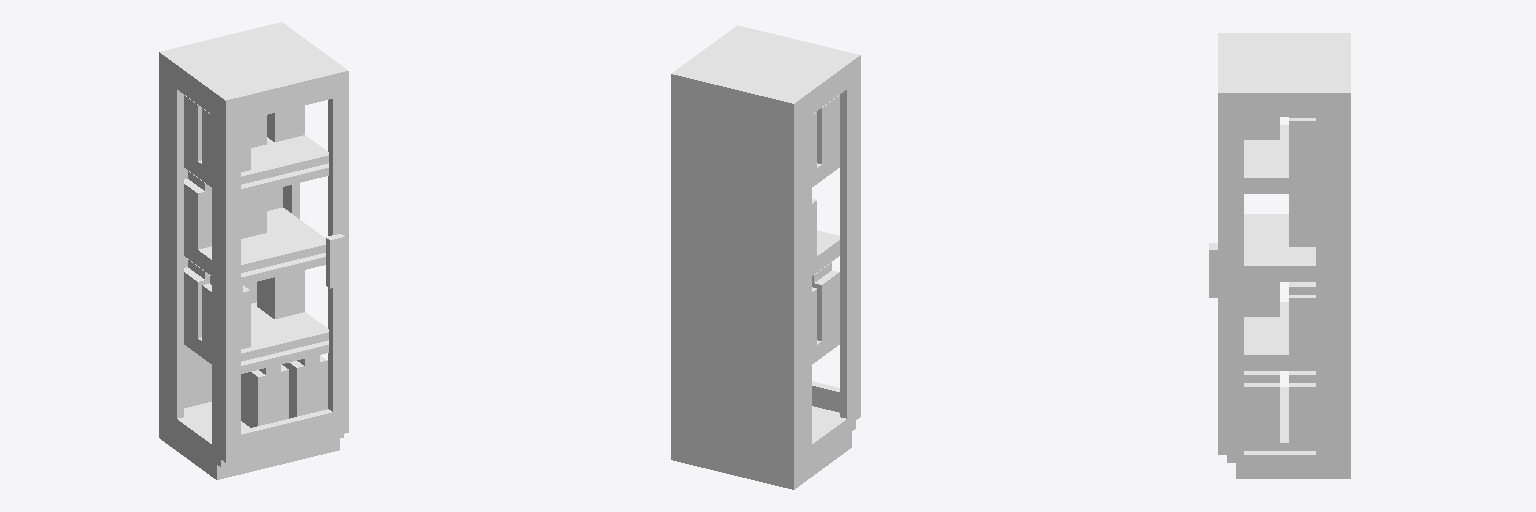
Rendered from fullMilkShelfAnimAttempt2.obj.
3 views of the same model, side by side, from view 1: azimuth 30°, elevation 25°; view 2: azimuth 150°, elevation 25°; view 3: azimuth 270°, elevation 25° (orthographic).
Visible parts, largest first — view 1: object 1; view 2: object 1; view 3: object 1.
Boxes of the visible parts, x1=… form: object 1: x1=159, y1=22, x2=348, y2=479; object 1: x1=671, y1=25, x2=860, y2=489; object 1: x1=1209, y1=33, x2=1350, y2=478.
Bounding box in the file's own units: 1.6 × 4.8 × 1.6.